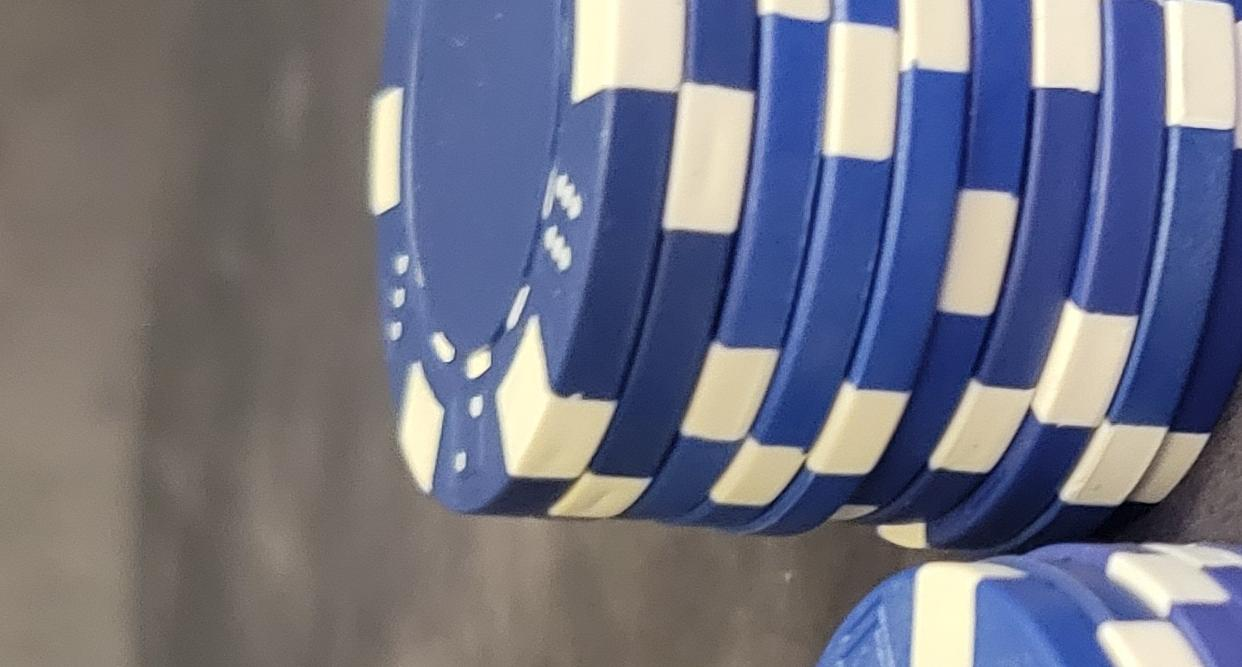Chip: (1, 340, 757, 667)
